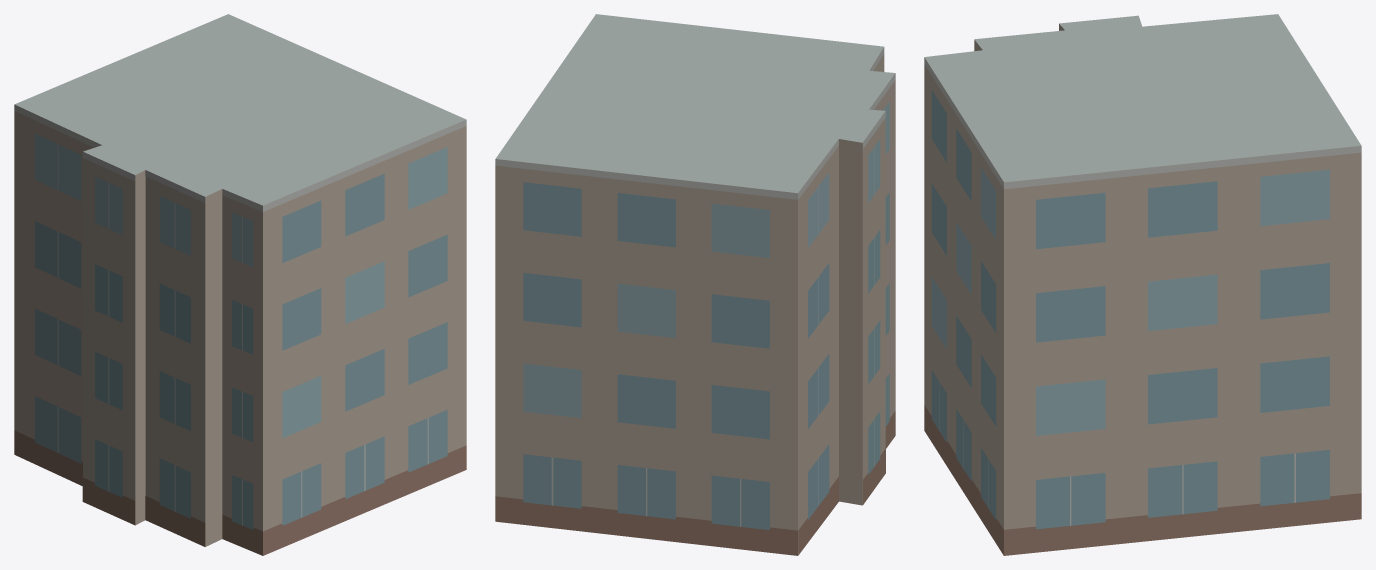
File: survey-upis-32584003.glb
3 renders of one model, left to right at view 1: azimuth 30°, elevation 25°; view 2: azimuth 150°, elevation 25°; view 3: azimuth 270°, elevation 25°, orthographic. The views are drawn at different scales.
Parts seen in each view (by area): view 1: survey-upis-32584003.tmp; view 2: survey-upis-32584003.tmp; view 3: survey-upis-32584003.tmp.
Boxes of the visible parts, left/top/right/bottom form: survey-upis-32584003.tmp: left=14, top=14, right=466, bottom=555; survey-upis-32584003.tmp: left=495, top=14, right=895, bottom=555; survey-upis-32584003.tmp: left=924, top=14, right=1361, bottom=555.
Size of the model in its own units: 12.92 by 13.35 by 14.18.
